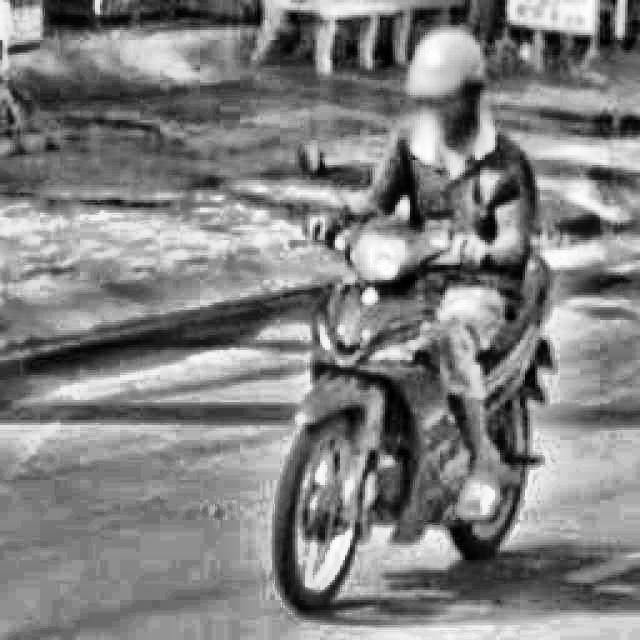motorcycle: (239, 125, 599, 623)
